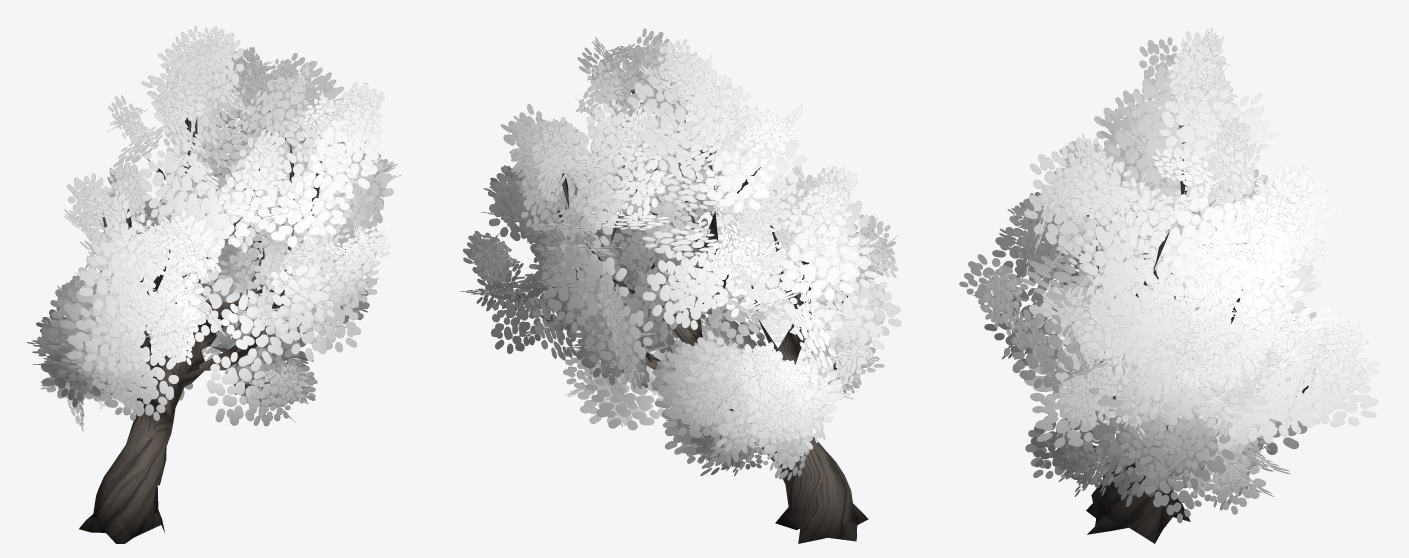
Rendered from TwistedTree_1.gltf.
The picture shows the model from 3 angles, left to right: view 1: azimuth 30°, elevation 25°; view 2: azimuth 150°, elevation 25°; view 3: azimuth 270°, elevation 25°; orthographic projection. The views are drawn at different scales.
Parts seen in each view (by area): view 1: TwistedTree_1; view 2: TwistedTree_1; view 3: TwistedTree_1.
Part boxes in pixels (box(x1,y1,x2,y2)): TwistedTree_1: box(27, 25, 401, 543); TwistedTree_1: box(460, 28, 901, 543); TwistedTree_1: box(959, 28, 1379, 543).
Bounding box in the file's own units: 14.63 × 17.05 × 12.39.
2 materials, 2 textured.
